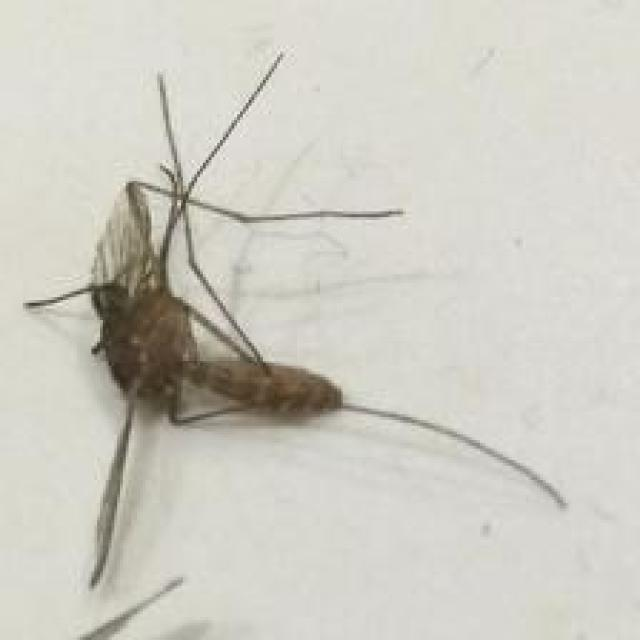Culex: (21, 50, 570, 590)
